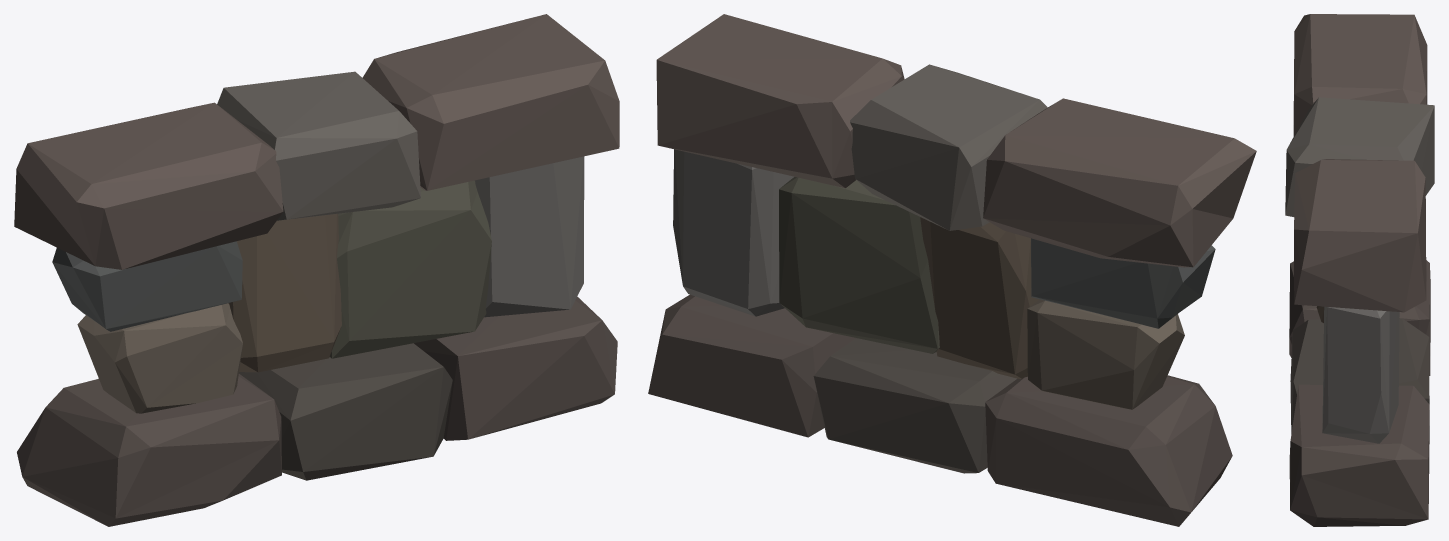
Rendered from um_wall004.FBX.
3 renders of one model, left to right at view 1: azimuth 30°, elevation 25°; view 2: azimuth 150°, elevation 25°; view 3: azimuth 270°, elevation 25°, orthographic. The views are drawn at different scales.
Parts seen in each view (by area): view 1: um_wall004; view 2: um_wall004; view 3: um_wall004.
Boxes of the visible parts, bbox=[...] form: um_wall004: bbox=[14, 14, 619, 526]; um_wall004: bbox=[648, 14, 1256, 526]; um_wall004: bbox=[1285, 14, 1434, 526].
Bounding box in the file's own units: 2.77 × 1.69 × 0.7676.
